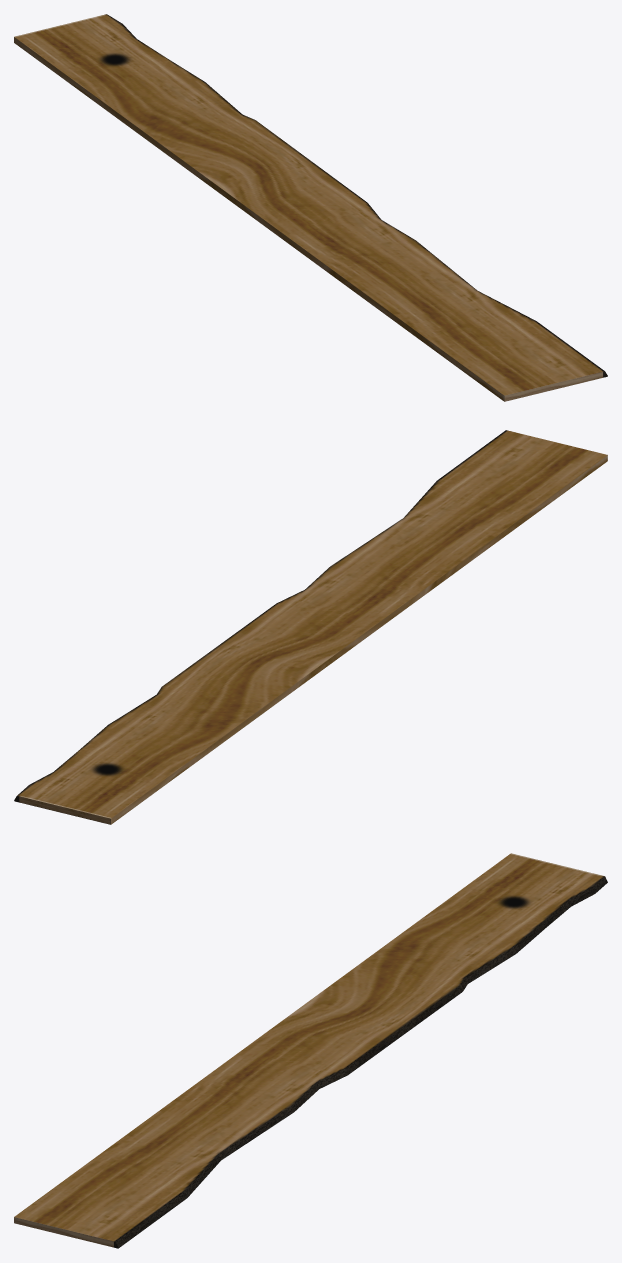
File: hewntable2.fbx
3 views of the same model, one above another, from view 1: azimuth 30°, elevation 25°; view 2: azimuth 150°, elevation 25°; view 3: azimuth 330°, elevation 25° (orthographic).
Parts seen in each view (by area): view 1: pCube2; view 2: pCube2; view 3: pCube2.
Boxes of the visible parts, x1=… form: pCube2: x1=14, y1=14, x2=607, y2=401; pCube2: x1=14, y1=430, x2=607, y2=824; pCube2: x1=14, y1=853, x2=607, y2=1248.
Bounding box in the file's own units: 31.79 × 1.78 × 261.
Materials: 1 (1 with a texture image).
